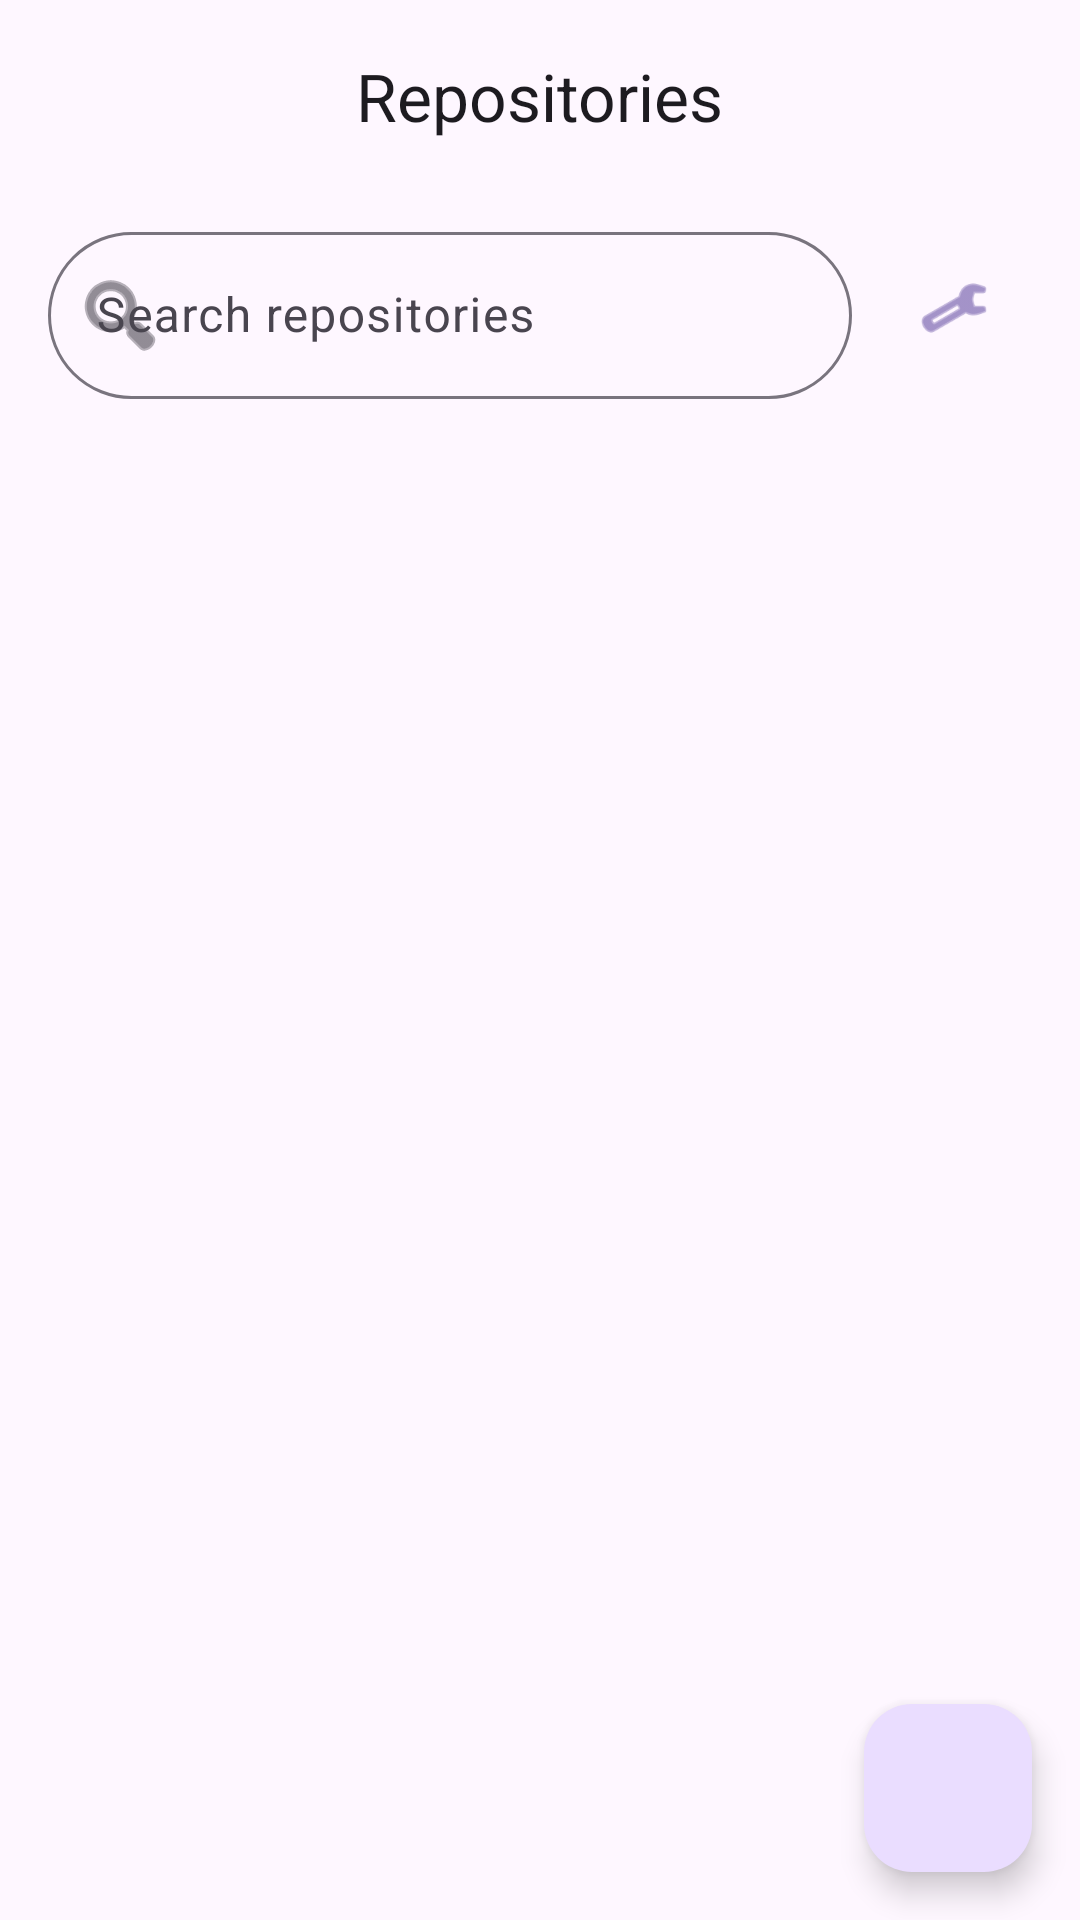

Icon bounding boxes for this 1080w x 1920h phone screenshot, format (left=x1, top=y1, right=x2, bottom=y2):
Settings: (left=922, top=283, right=986, bottom=333)
